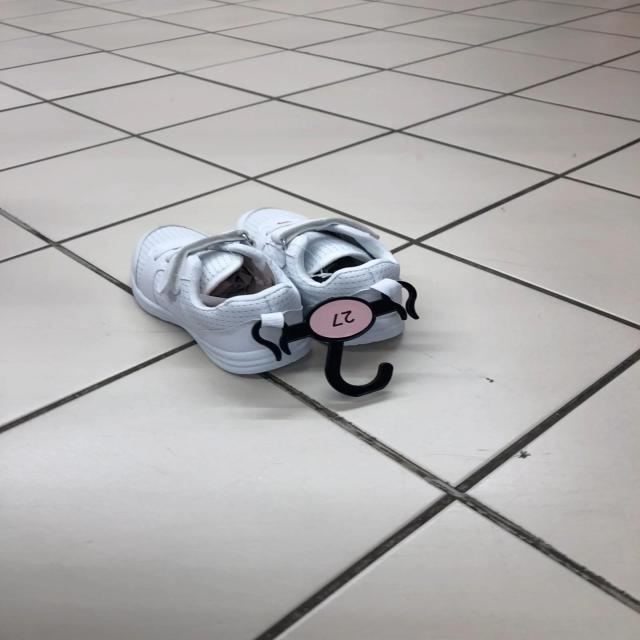shoe: (128, 218, 307, 377), (247, 198, 407, 345)
